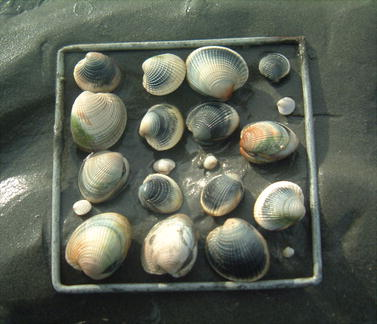cockle: (64, 210, 130, 280), (205, 217, 270, 282), (139, 213, 198, 278), (186, 45, 250, 101), (69, 91, 128, 150), (252, 177, 309, 231), (77, 151, 132, 203), (240, 120, 303, 164), (186, 101, 241, 144), (138, 103, 185, 152), (140, 53, 187, 97), (138, 172, 185, 214), (73, 52, 122, 92), (201, 171, 244, 216)
